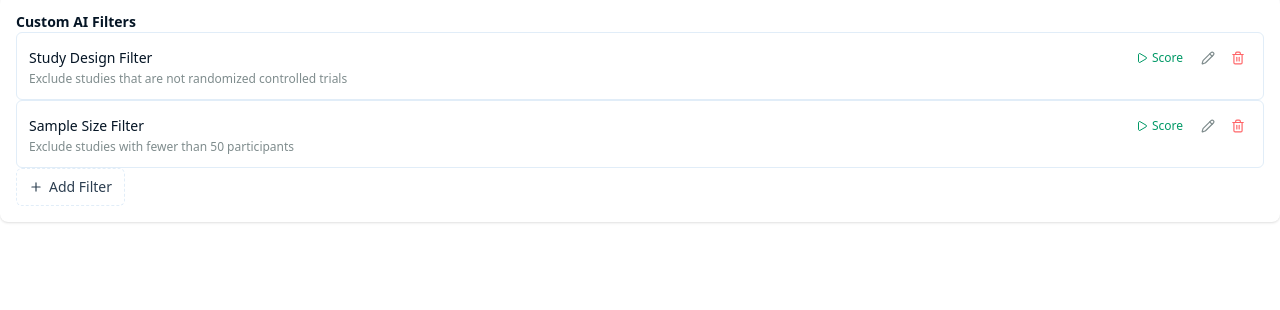
Test: CustomAiFilterEditor › launches scoring for a filter
The width and height of the screenshot is (1280, 310).
Step 1. Click the button with test id "launch-scoring-f-1" → (1159, 58), box [1128,46,1191,70]
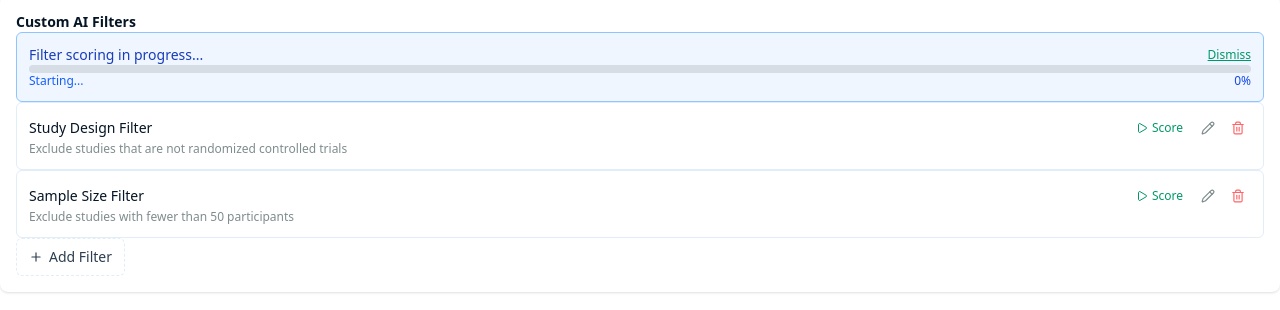
Expected: the element with test id "scoring-task-launched" is shown, [16,32,1264,102]
